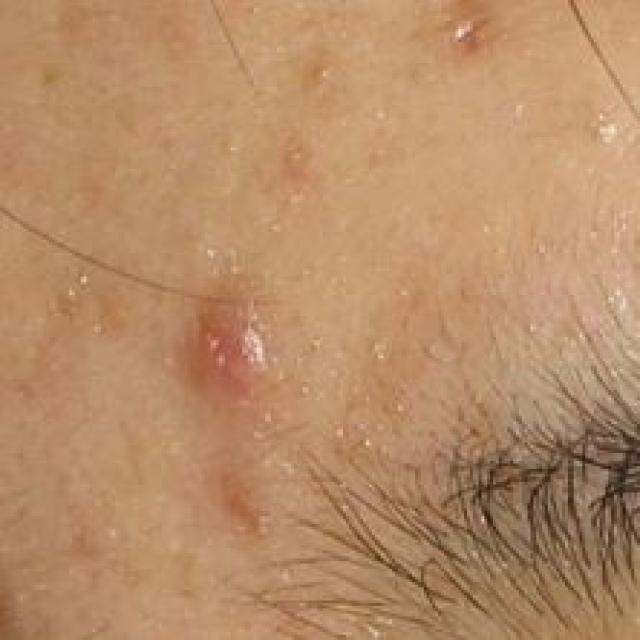Pimples: (197, 286, 300, 407), (439, 0, 512, 60), (303, 52, 347, 100)
